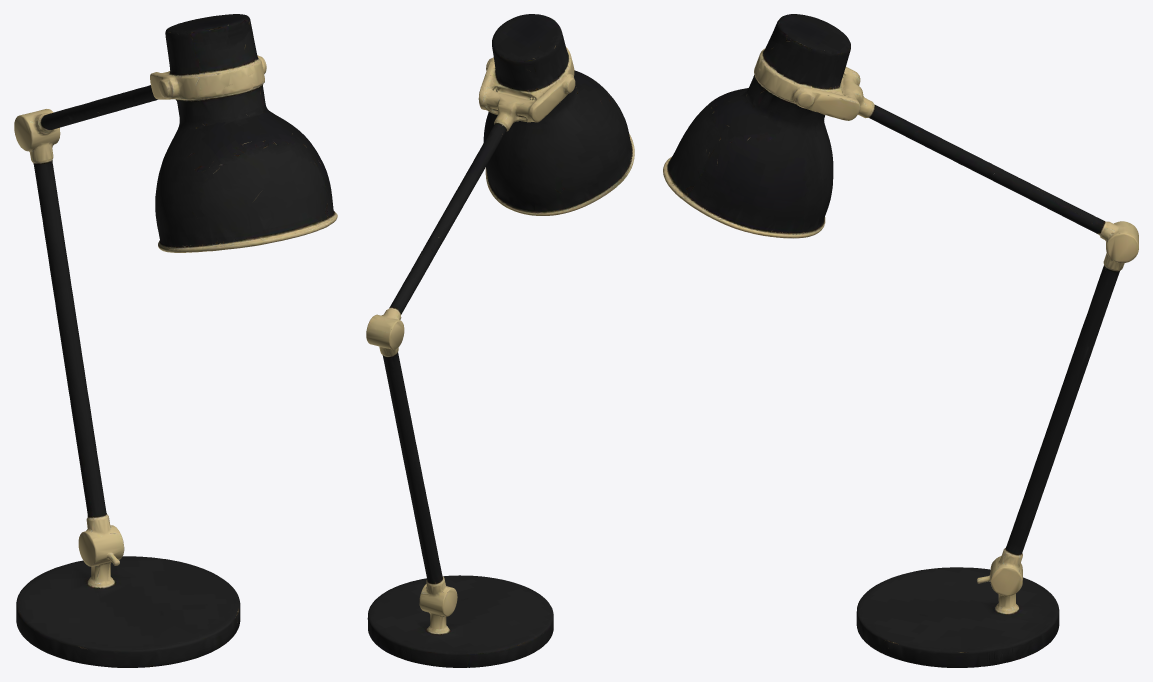
Rendered from lamp.glb.
The picture shows the model from 3 angles, left to right: view 1: azimuth 30°, elevation 25°; view 2: azimuth 150°, elevation 25°; view 3: azimuth 270°, elevation 25°; orthographic projection. The views are drawn at different scales.
Visible parts, largest first — view 1: Mesh_0; view 2: Mesh_0; view 3: Mesh_0.
Part boxes in pixels (x1,y1,x2,y2): Mesh_0: [14, 14, 337, 667]; Mesh_0: [366, 14, 634, 667]; Mesh_0: [663, 14, 1138, 667].
Bounding box in the file's own units: 0.5811 × 1.91 × 1.37.
1 material, 1 textured.
